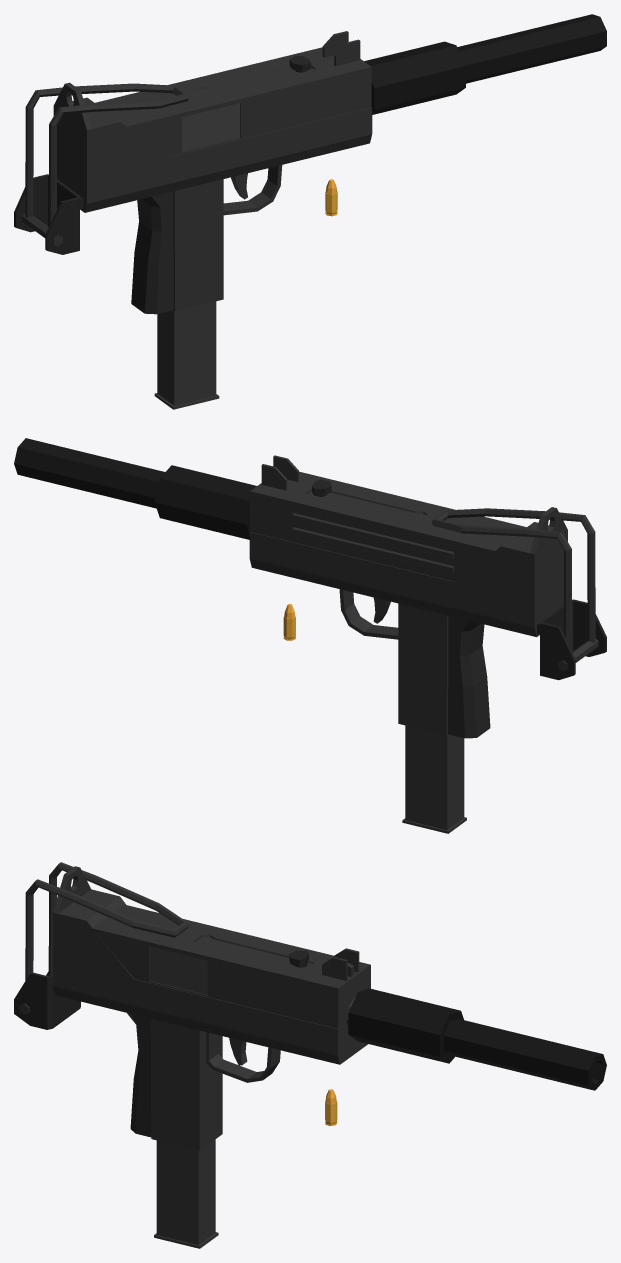
The model's file is Mac10.fbx.
The picture shows the model from 3 angles, top to bottom: view 1: azimuth 30°, elevation 25°; view 2: azimuth 150°, elevation 25°; view 3: azimuth 330°, elevation 25°; orthographic projection.
Visible parts, largest first — view 1: Mac10, Suppressor, Mag; view 2: Mac10, Suppressor, Mag; view 3: Mac10, Suppressor, Mag.
Boxes of the visible parts, x1=… form: Mac10: x1=14, y1=31, x2=372, y2=314; Suppressor: x1=364, y1=14, x2=606, y2=114; Mag: x1=154, y1=301, x2=219, y2=409; Mac10: x1=249, y1=455, x2=606, y2=738; Suppressor: x1=14, y1=438, x2=256, y2=539; Mag: x1=402, y1=725, x2=466, y2=833; Mac10: x1=14, y1=862, x2=370, y2=1150; Suppressor: x1=348, y1=988, x2=606, y2=1090; Mag: x1=154, y1=1139, x2=218, y2=1248.
Bounding box in the file's own units: 771 × 439 × 81.22.
1 material, 1 textured.
